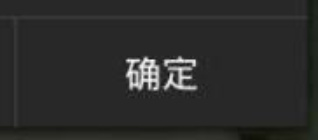Button: (1, 1, 317, 139)
